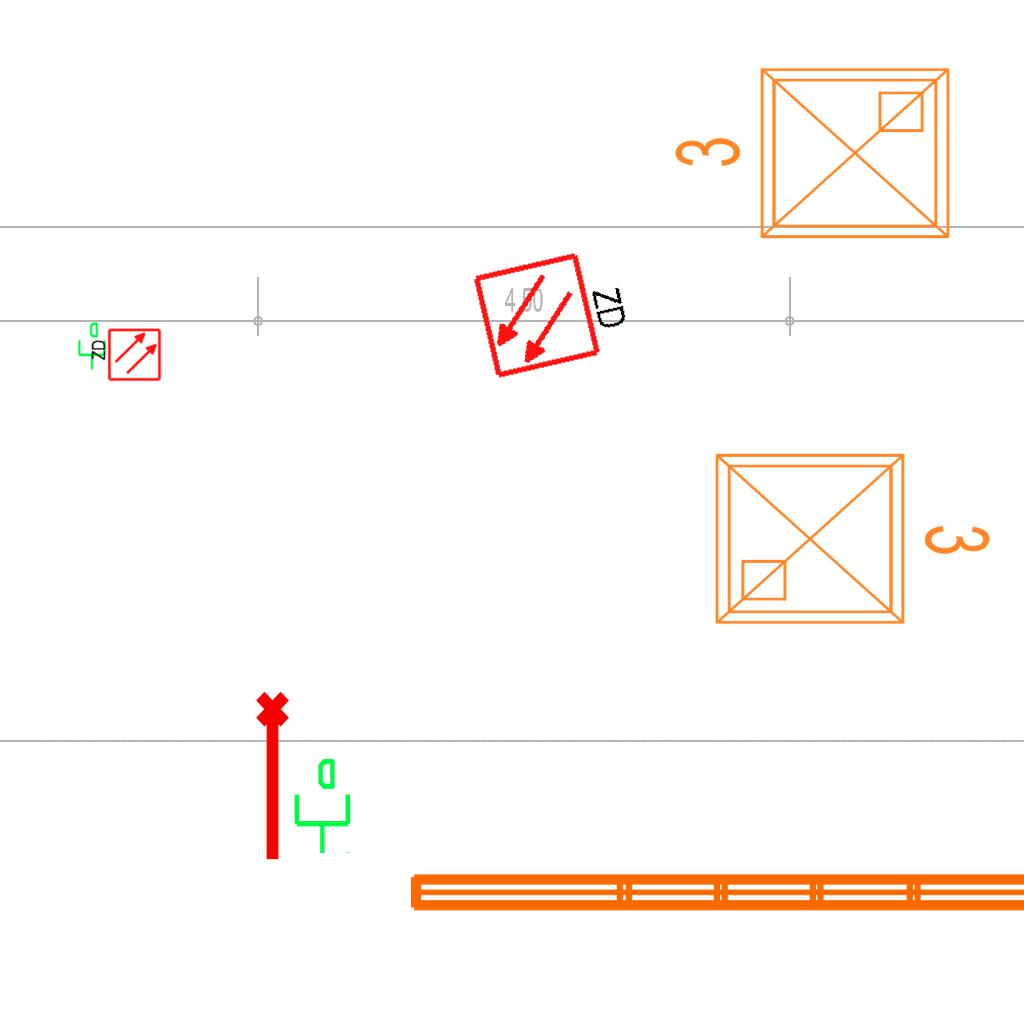ASR_Ansaugoeffnung: (252, 689, 298, 865)
Ambulanz_Pendelleuchte_LED: (400, 811, 1024, 923)
Datenanschluss_einfach: (286, 756, 355, 856), (74, 321, 108, 371)
Einbaudownlights_LED_Konferenzraeume: (664, 53, 964, 261), (701, 431, 1001, 639)
ZD_Melder_in_Zwischendecke_mit_Revisionsoeffnung_mind_40_x_40_cm: (469, 237, 641, 382), (88, 327, 162, 384)
